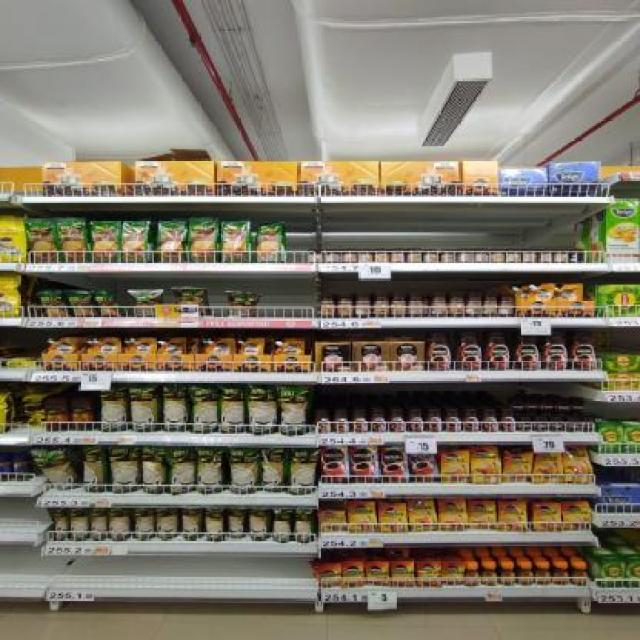Coffee: (318, 445, 350, 484), (470, 447, 502, 484), (380, 445, 409, 483), (571, 330, 597, 370), (485, 331, 510, 372), (351, 447, 380, 482), (564, 447, 593, 482), (426, 332, 452, 371), (409, 446, 437, 482), (439, 451, 470, 483), (534, 450, 563, 484), (457, 331, 481, 372), (515, 330, 539, 370), (544, 330, 568, 370), (409, 498, 436, 533), (378, 502, 408, 533), (468, 499, 497, 530), (348, 501, 377, 532), (499, 501, 527, 532), (439, 498, 466, 530), (534, 502, 561, 532), (562, 501, 589, 530), (504, 452, 530, 482), (316, 511, 347, 532), (440, 560, 464, 586), (416, 560, 440, 586), (366, 561, 390, 587), (391, 561, 415, 587), (341, 562, 365, 588), (316, 564, 341, 588), (332, 409, 350, 433), (481, 410, 499, 433), (443, 411, 462, 432), (408, 409, 423, 434), (500, 410, 516, 433), (352, 410, 368, 433), (315, 410, 331, 433), (426, 410, 442, 433), (534, 564, 551, 585), (517, 564, 534, 585), (570, 565, 587, 586), (388, 410, 404, 432), (481, 564, 496, 587), (553, 564, 569, 585), (500, 565, 516, 586), (464, 410, 479, 432), (371, 410, 386, 432), (465, 565, 480, 586), (517, 418, 532, 432), (557, 401, 571, 414), (550, 419, 564, 432), (535, 419, 548, 432), (512, 400, 526, 412), (542, 400, 555, 412), (584, 418, 596, 431), (528, 400, 540, 412), (574, 401, 586, 413), (568, 420, 580, 432)
